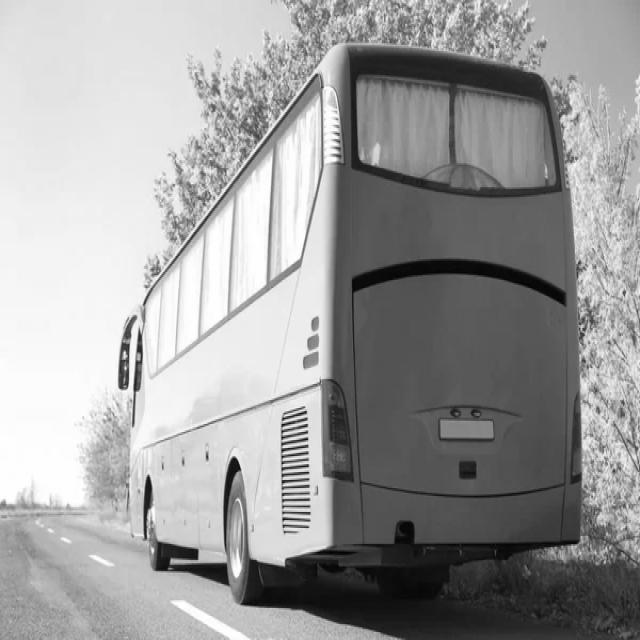Bus: (116, 44, 584, 606)
